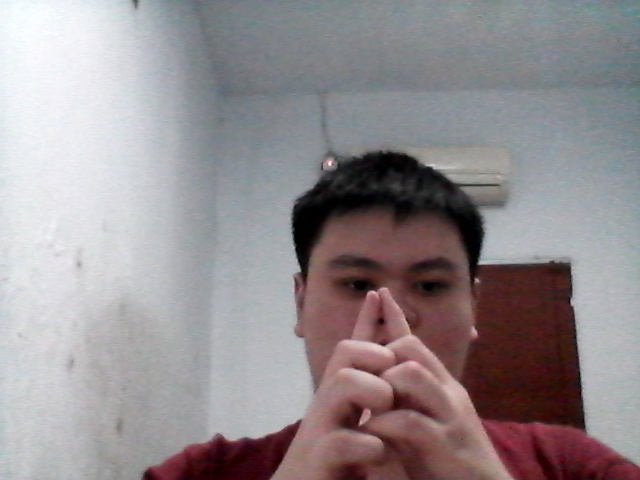jutsu: (272, 286, 511, 477)
